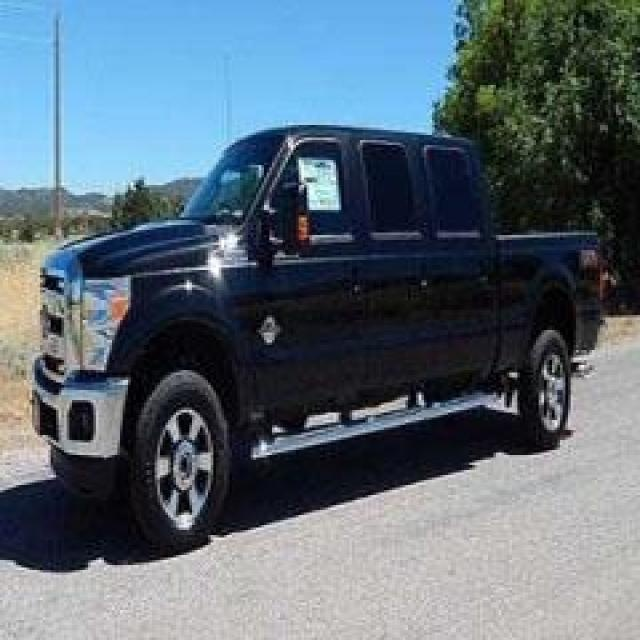car: (19, 103, 605, 585)
